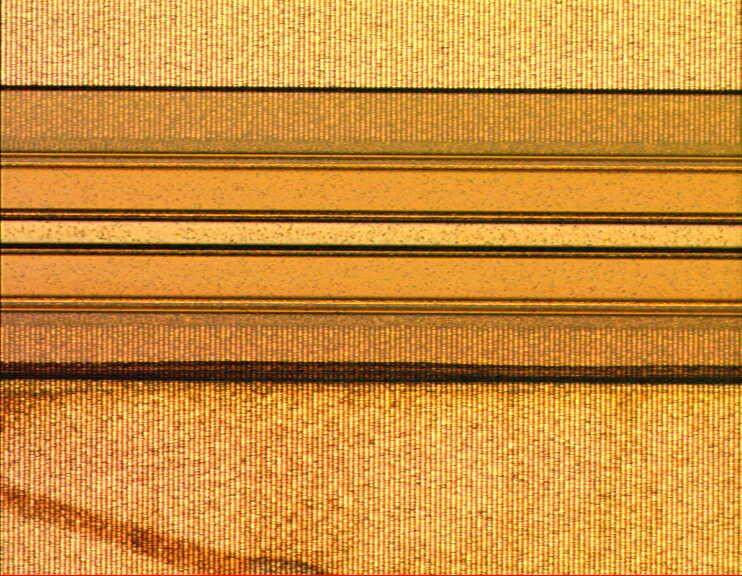SEZ BURNT: (1, 346, 742, 576)
